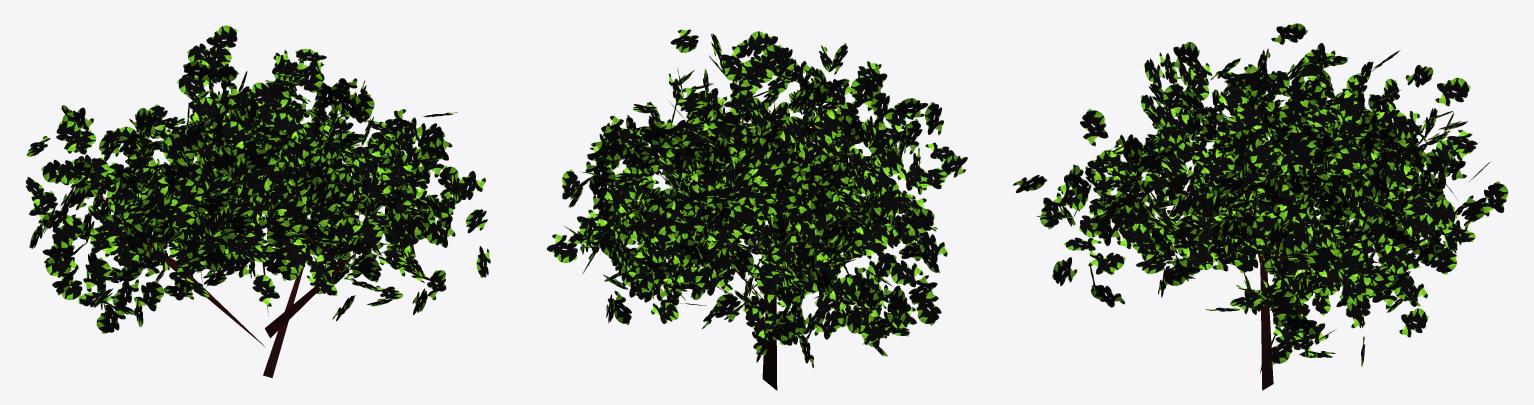
The model's file is understory_laurel_v02_LOD2.glb.
The picture shows the model from 3 angles, left to right: view 1: azimuth 30°, elevation 25°; view 2: azimuth 150°, elevation 25°; view 3: azimuth 270°, elevation 25°; orthographic projection. The views are drawn at different scales.
Parts seen in each view (by area): view 1: understory_laurel_v02_LOD2; view 2: understory_laurel_v02_LOD2; view 3: understory_laurel_v02_LOD2.
Part boxes in pixels (left/top/right/bottom): understory_laurel_v02_LOD2: left=26, top=25, right=490, bottom=378; understory_laurel_v02_LOD2: left=547, top=29, right=967, bottom=390; understory_laurel_v02_LOD2: left=1012, top=23, right=1508, bottom=390.
Size of the model in its own units: 9.25 by 7.16 by 10.17.
Materials: 2 (2 with a texture image).
